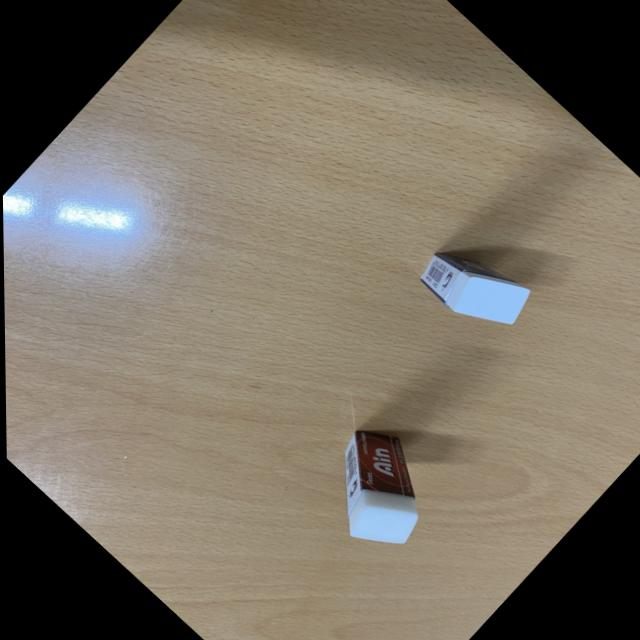blue: (400, 218, 545, 360)
red: (292, 406, 460, 572)
